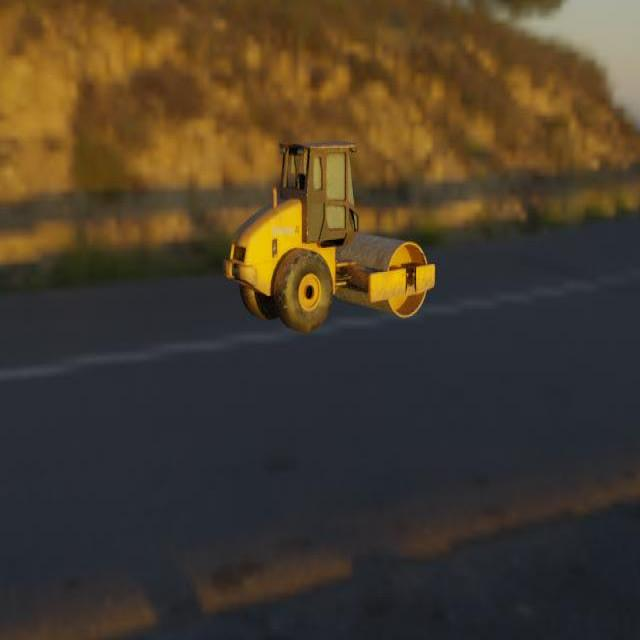Roller: (222, 140, 435, 333)
